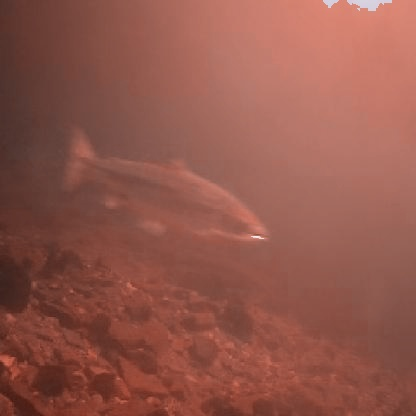salmon: (50, 120, 272, 246)
